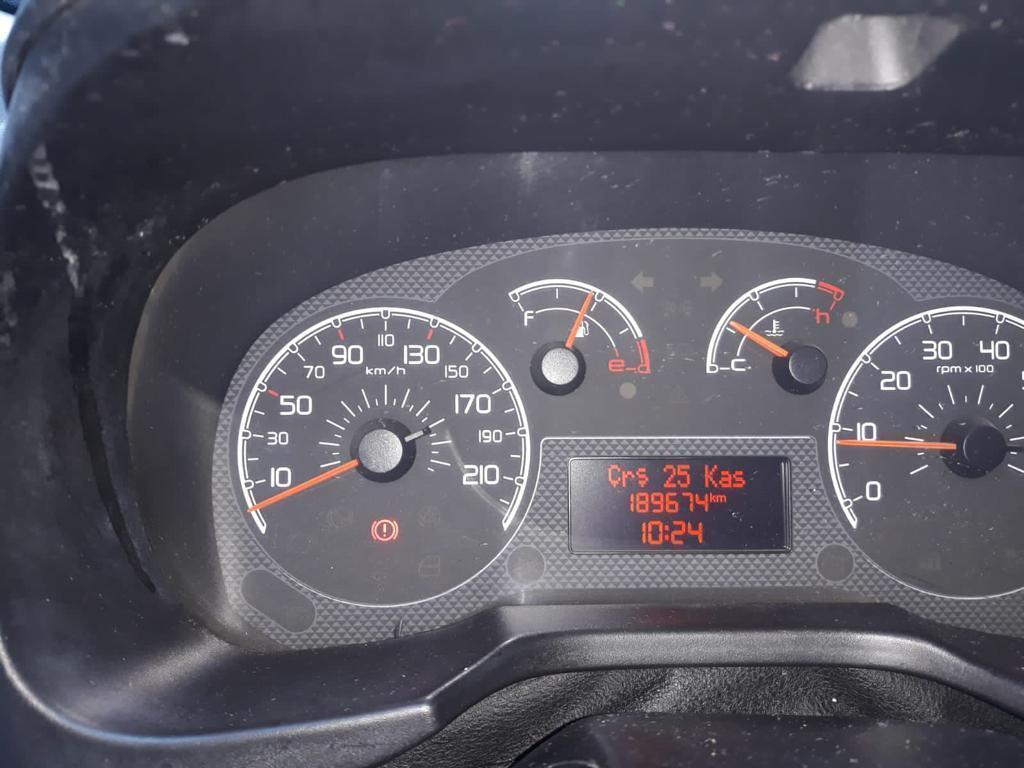0: (647, 520, 663, 544)
1: (640, 521, 647, 544), (629, 492, 635, 512)
2: (670, 520, 685, 544), (662, 463, 676, 488)
4: (686, 520, 702, 544), (694, 493, 708, 512)
5: (676, 464, 690, 487)
6: (665, 492, 678, 512)
7: (681, 491, 694, 512)
8: (635, 492, 648, 512)
9: (650, 491, 664, 513)
X: (703, 464, 718, 488), (607, 464, 621, 487), (635, 466, 649, 487), (718, 470, 732, 488), (732, 470, 746, 487), (621, 470, 635, 487), (663, 524, 670, 541), (715, 494, 726, 502), (709, 492, 716, 503)
odometer: (567, 455, 792, 554)
